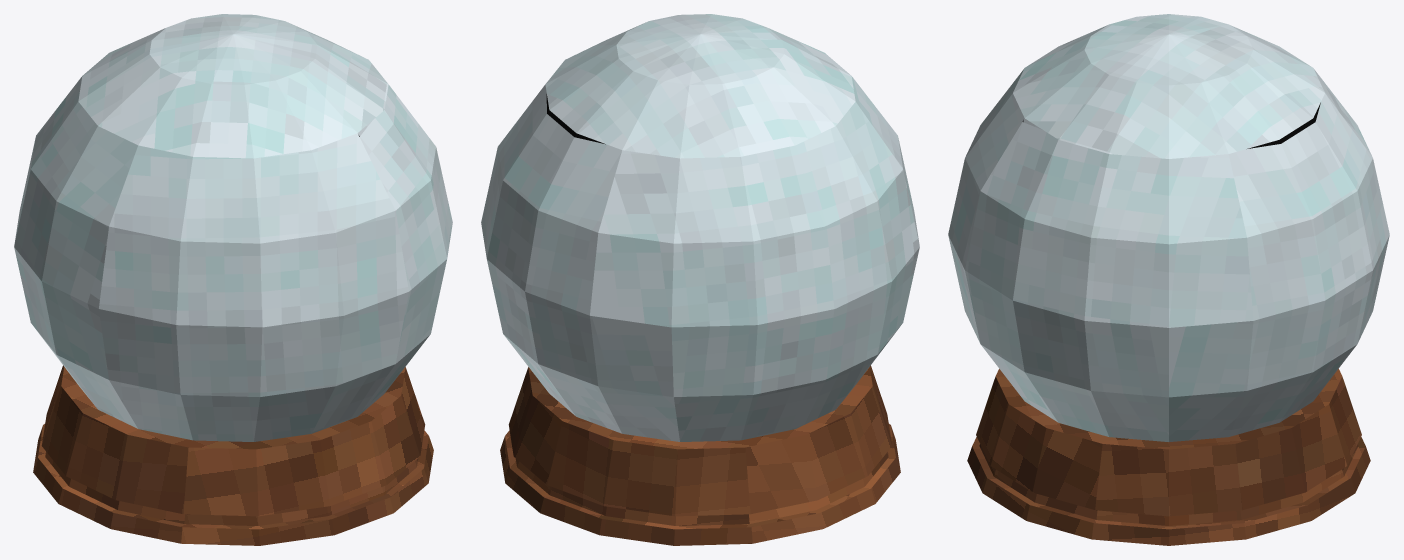
The model's file is Snowglobe.fbx.
3 renders of one model, left to right at view 1: azimuth 30°, elevation 25°; view 2: azimuth 150°, elevation 25°; view 3: azimuth 270°, elevation 25°, orthographic.
Visible parts, largest first — view 1: Snowglobe_Glass, Snowglobe_Base; view 2: Snowglobe_Glass, Snowglobe_Base; view 3: Snowglobe_Glass, Snowglobe_Base.
Part boxes in pixels (x1,y1,x2,y2): Snowglobe_Glass: [14, 14, 452, 441]; Snowglobe_Base: [33, 365, 433, 545]; Snowglobe_Glass: [481, 14, 919, 441]; Snowglobe_Base: [500, 365, 900, 545]; Snowglobe_Glass: [948, 14, 1389, 441]; Snowglobe_Base: [967, 369, 1370, 545].
Bounding box in the file's own units: 17.88 × 19.04 × 17.88.
